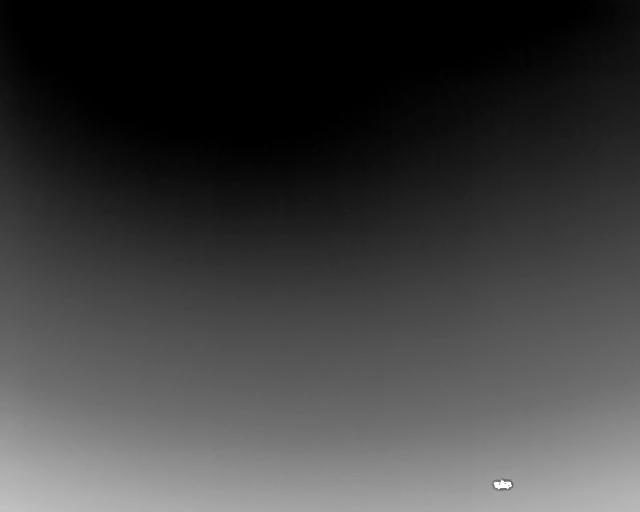fpv-drone: (492, 479, 512, 490)
